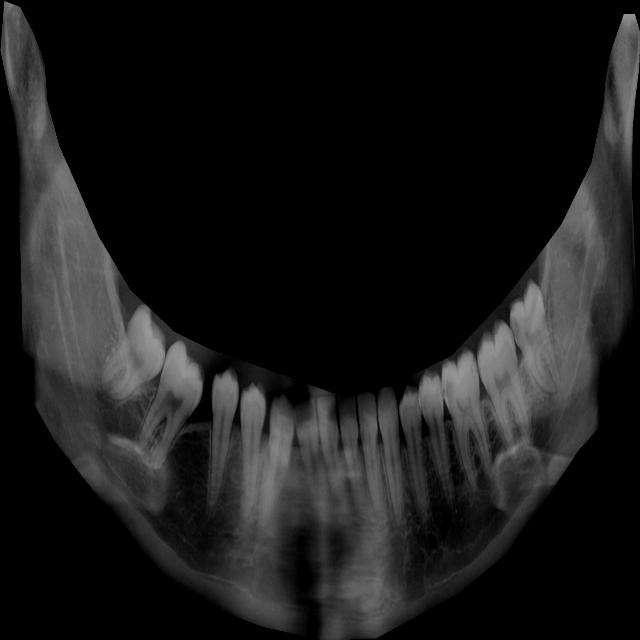mandibula: (0, 1, 640, 640)
